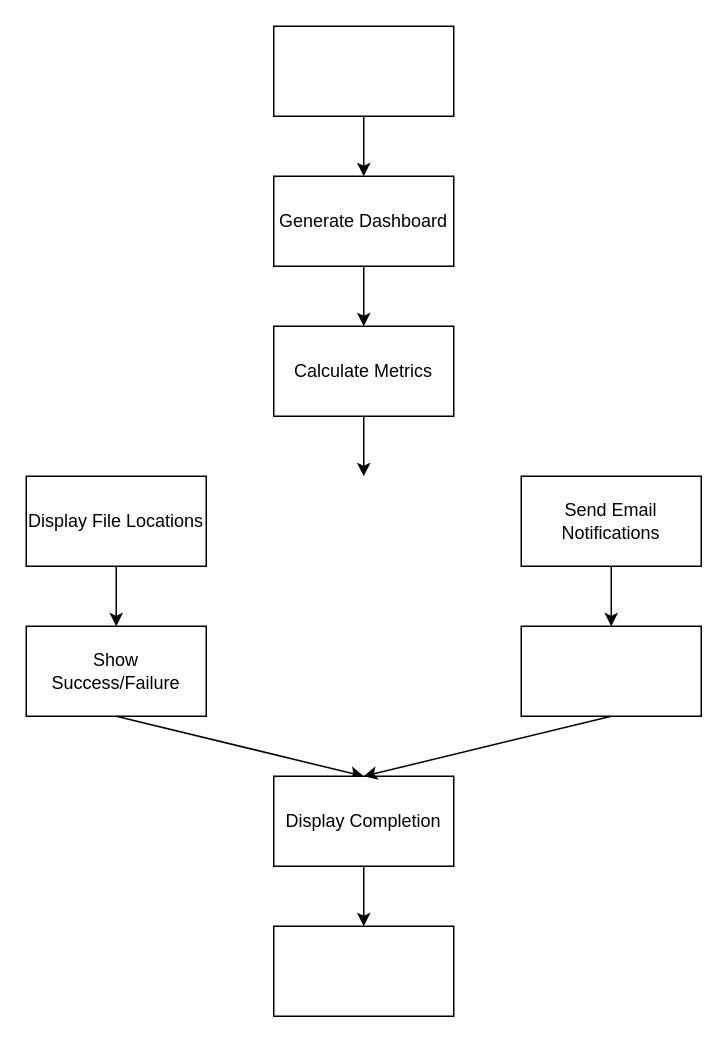
Some shapes in this 728 by 1043 pixel diagram are drawn without their labels. Here are the shapes that lost their labels. From the top down, the centre of each, then its label:
the point at 363,70: Phase 5 Complete
the point at 610,670: Send Admin Logs
the point at 363,970: Phase 6 Complete
